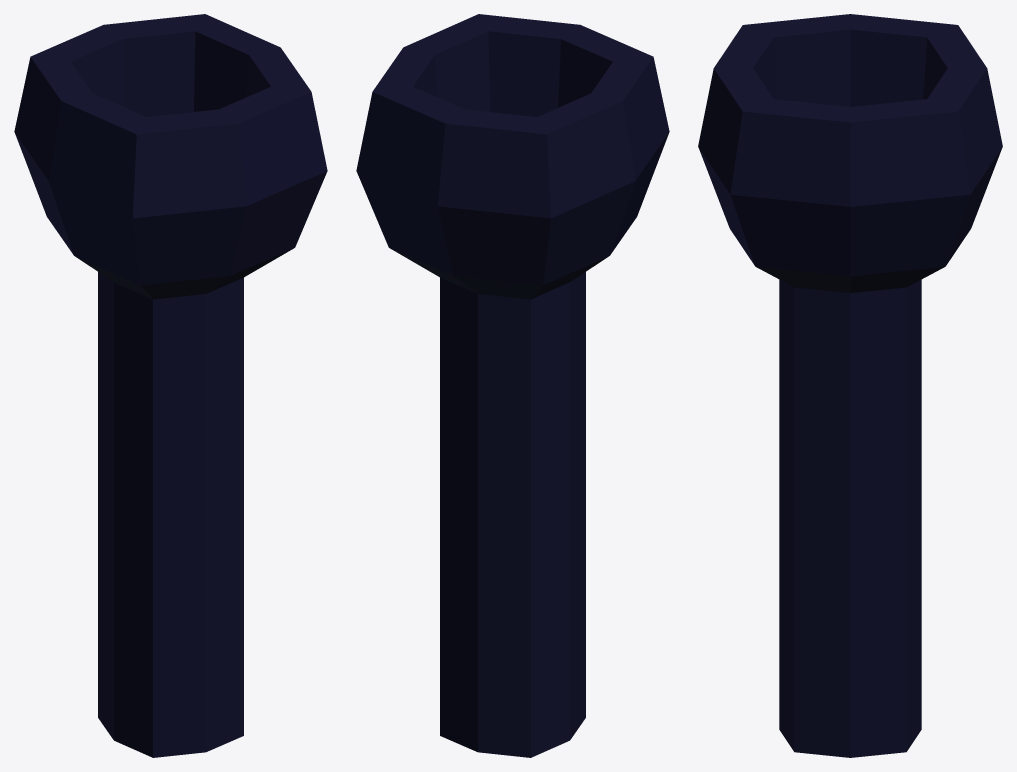
File: Lanterna.fbx
3 renders of one model, left to right at view 1: azimuth 30°, elevation 25°; view 2: azimuth 150°, elevation 25°; view 3: azimuth 270°, elevation 25°, orthographic.
Visible parts, largest first — view 1: Lanterna; view 2: Lanterna; view 3: Lanterna.
Boxes of the visible parts, bbox=[...] form: Lanterna: bbox=[14, 14, 327, 757]; Lanterna: bbox=[356, 14, 669, 757]; Lanterna: bbox=[698, 14, 1002, 757].
Size of the model in its own units: 0.2824 by 0.7201 by 0.3008.
